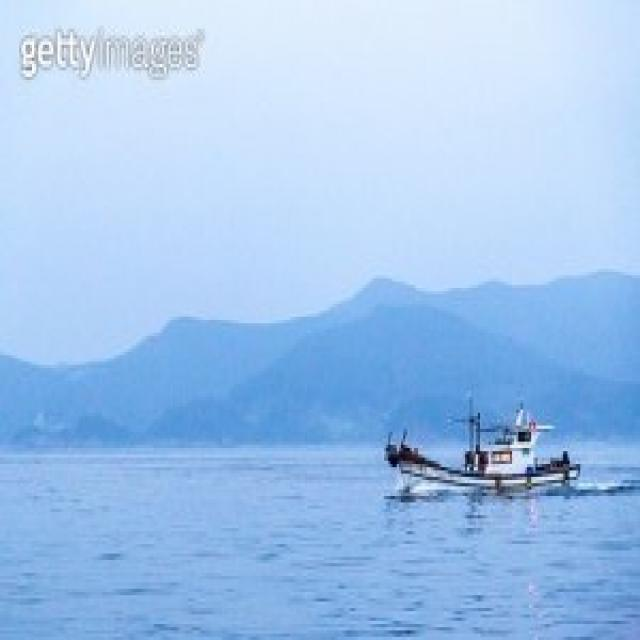Ship: (392, 379, 590, 501)
